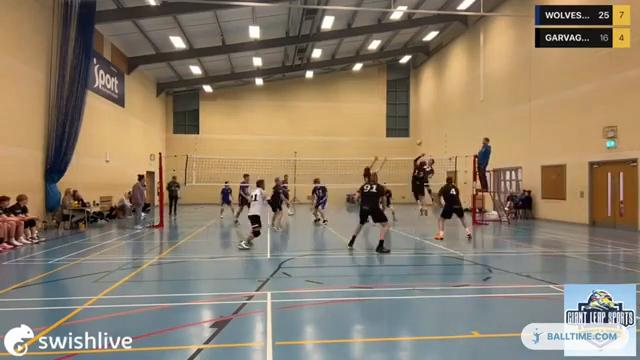attacco: (425, 155, 438, 202)
muro: (357, 152, 387, 204), (408, 152, 431, 215)
